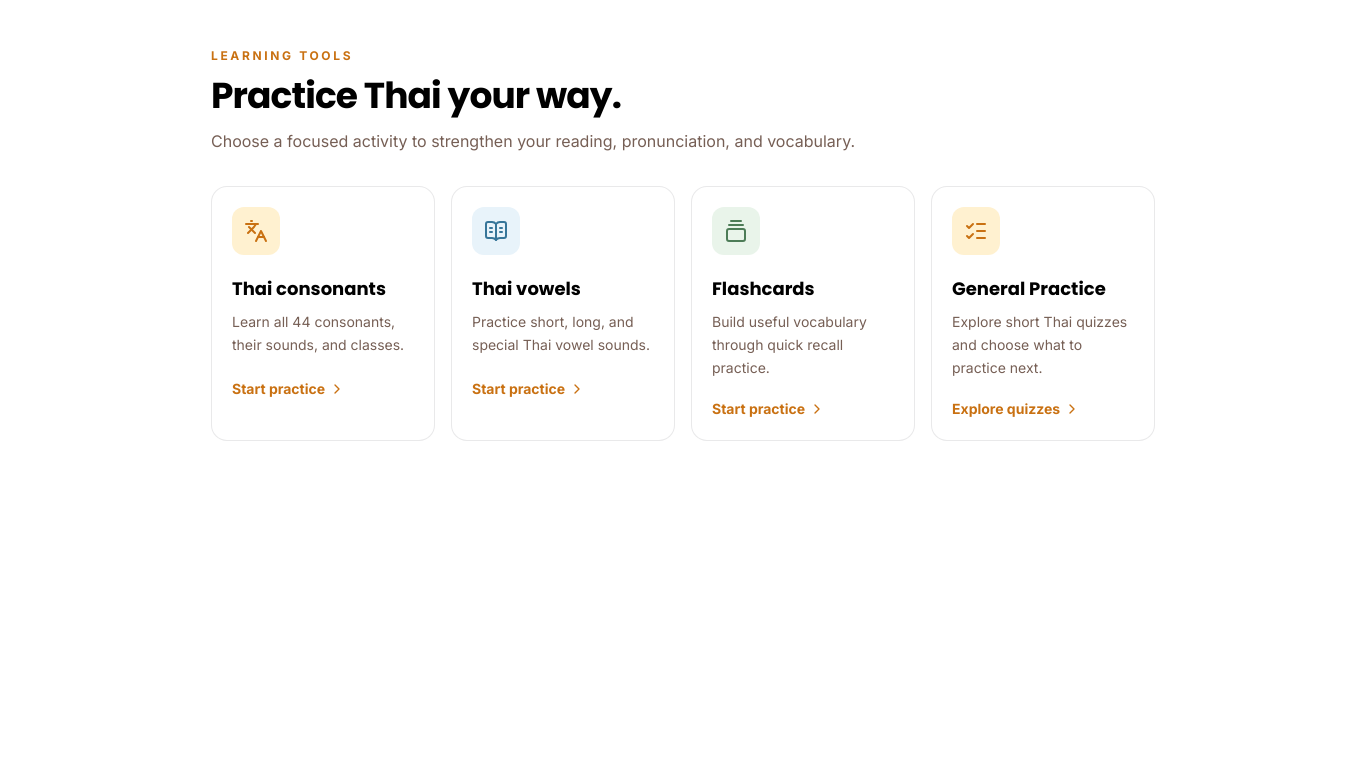
General Practice discovery › adds an entry to existing Student Practice without removing prior activities
Check: the heading "Thai consonants" is shown, box [232,276,386,301]
Check: the heading "Thai vowels" is shown, box [472,276,581,301]
Click the link "General Practice": (1043,314) [931,186,1155,441]
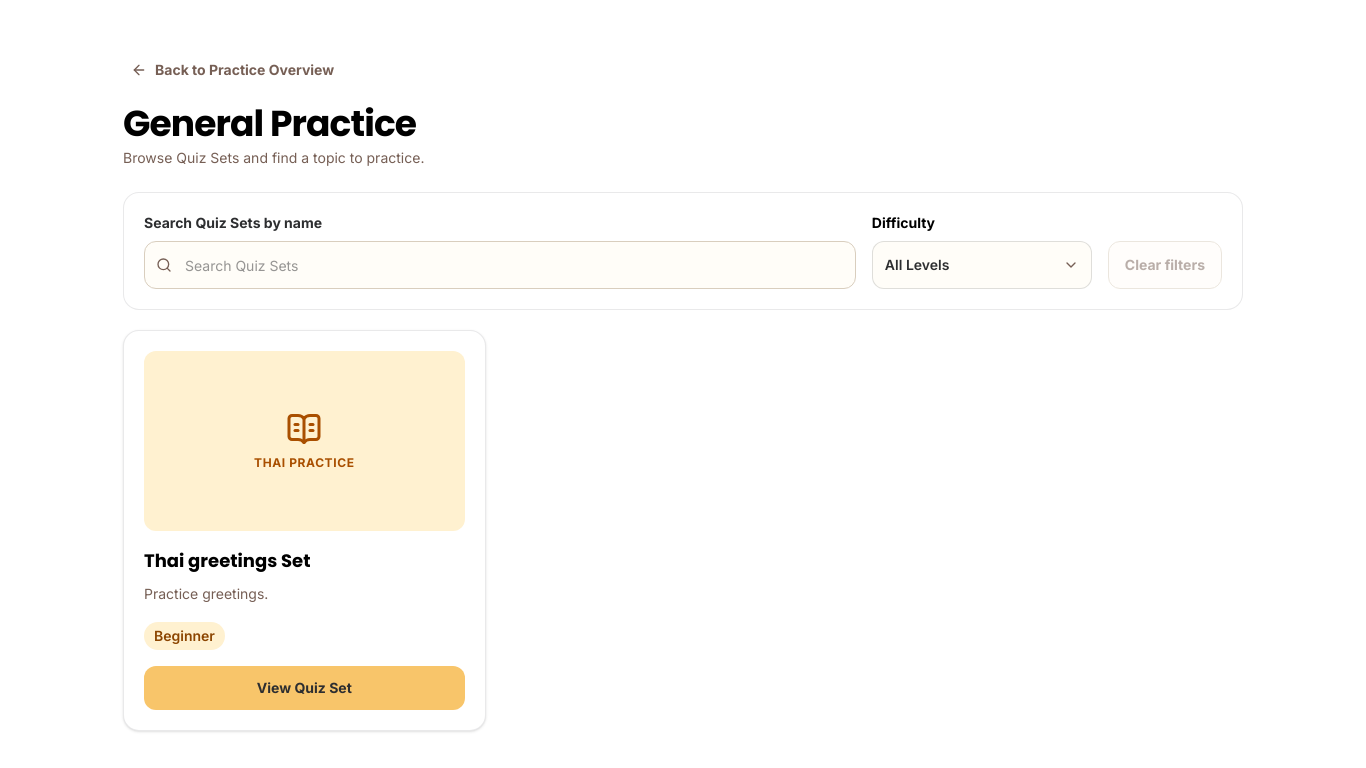
Check: the heading "Thai greetings Set" is shown, box [144,548,310,573]
